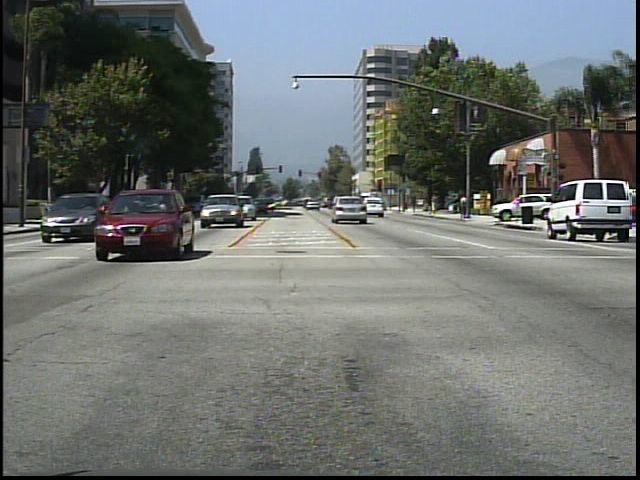person: (456, 189, 471, 221), (429, 190, 442, 216)
